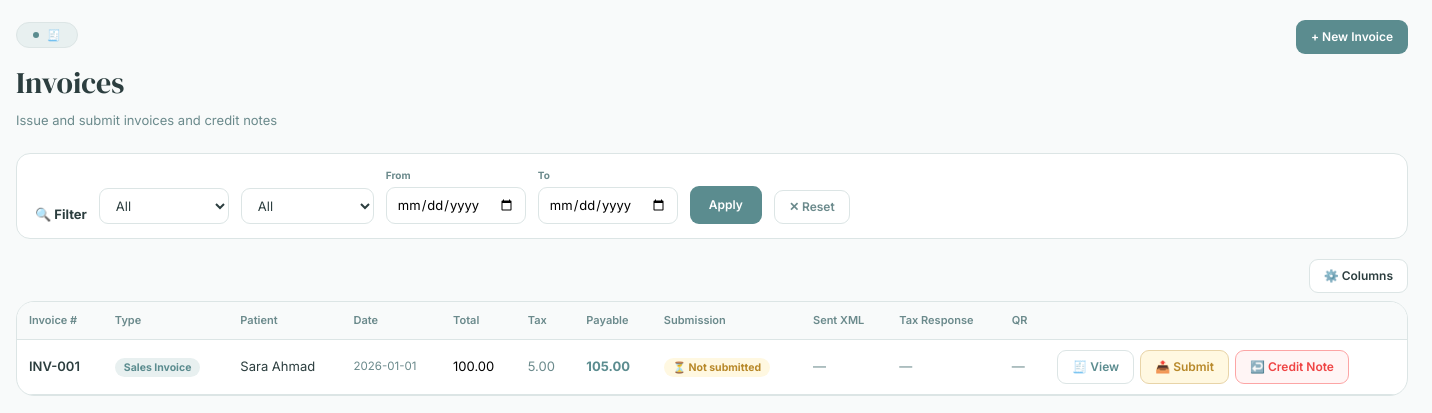
it: Invoices › submits an invoice and refetches the list
This screenshot has width=1432, height=413.
Check: the text "Sara Ahmad" is shown, box top-left (228, 339), bottom-right (342, 394)
Click the button "📤 Submit".
click(1184, 367)  # box top-left (1140, 350), bottom-right (1229, 384)
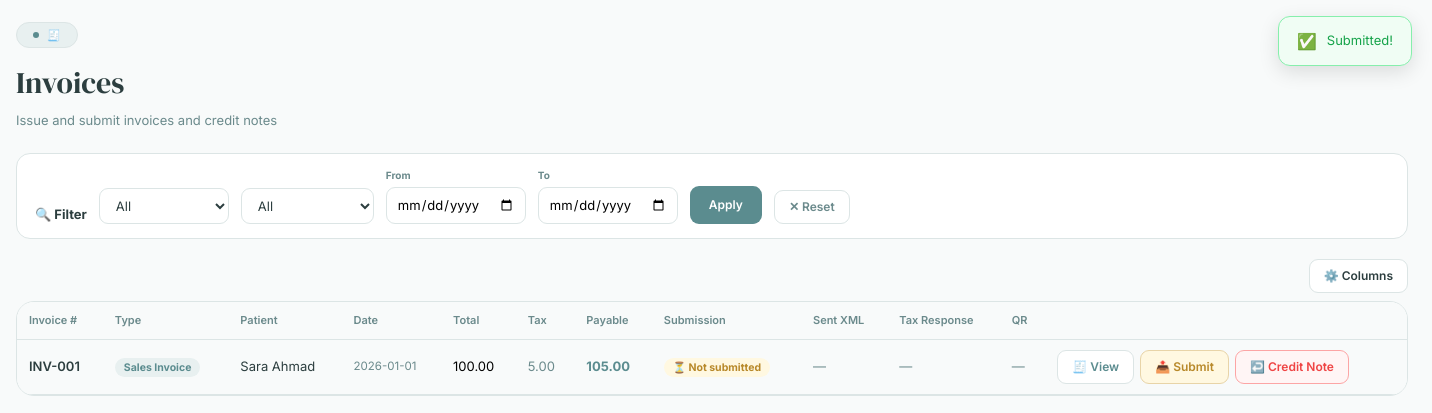
Check: the message shows "Submitted!", box top-left (1327, 32), bottom-right (1393, 48)
